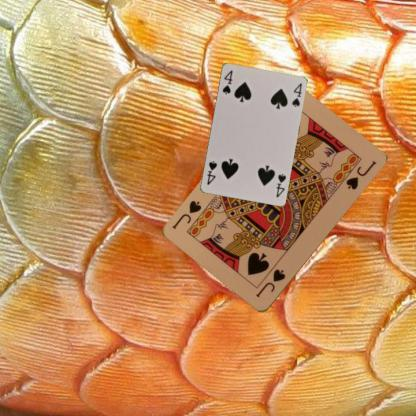4s: (219, 68, 234, 95), (273, 171, 287, 198)
Js: (253, 267, 287, 299)
